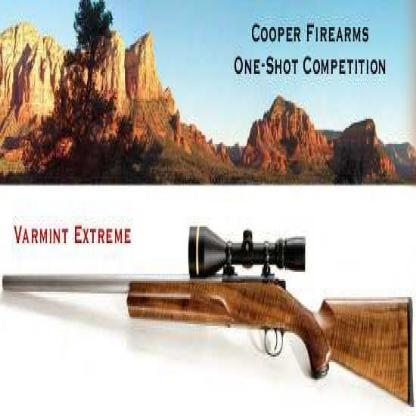rifle: (2, 209, 415, 414)
